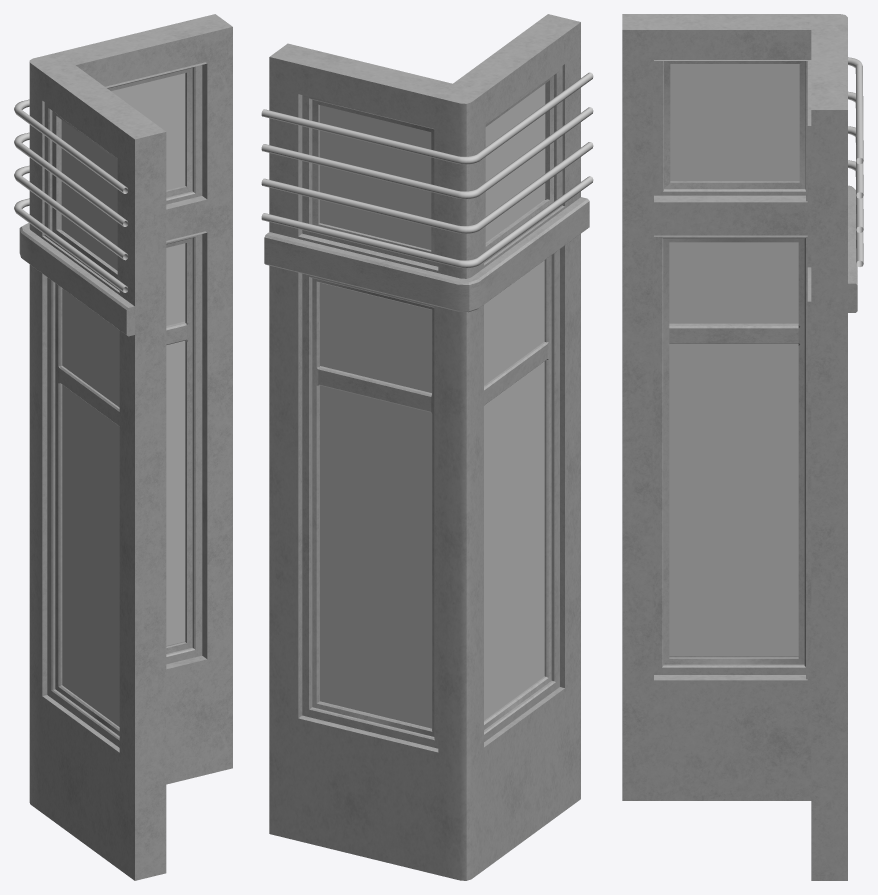
File: SM_Building03_GroundCorner2R.fbx
3 renders of one model, left to right at view 1: azimuth 30°, elevation 25°; view 2: azimuth 150°, elevation 25°; view 3: azimuth 270°, elevation 25°, orthographic. The views are drawn at different scales.
Visible parts, largest first — view 1: SM_Building03_GroundCorner2R_LOD0; view 2: SM_Building03_GroundCorner2R_LOD0; view 3: SM_Building03_GroundCorner2R_LOD0.
Part boxes in pixels (bbox=[...]): SM_Building03_GroundCorner2R_LOD0: bbox=[14, 14, 232, 880]; SM_Building03_GroundCorner2R_LOD0: bbox=[261, 14, 593, 880]; SM_Building03_GroundCorner2R_LOD0: bbox=[622, 14, 863, 880].
Bounding box in the file's own units: 128 × 128 × 450.
